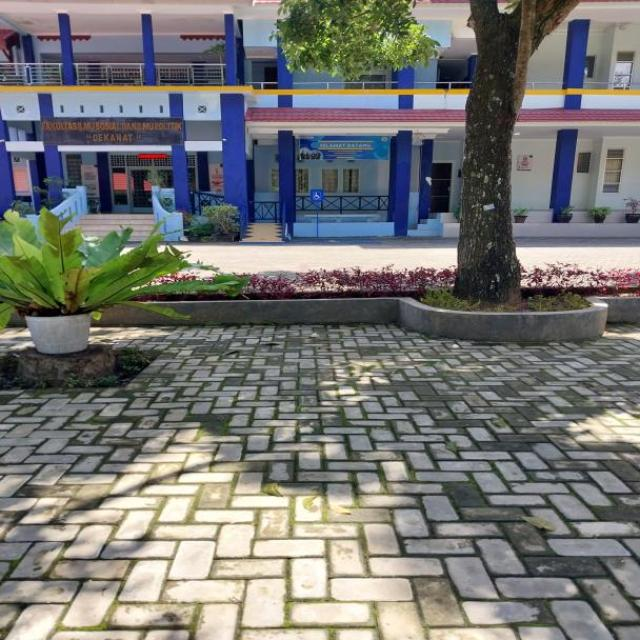plant ahead at: (0, 209, 185, 352)
tree ahead at: (446, 2, 545, 299)
